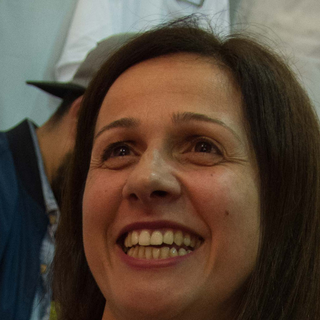eye: (173, 133, 231, 165), (91, 135, 146, 168)
